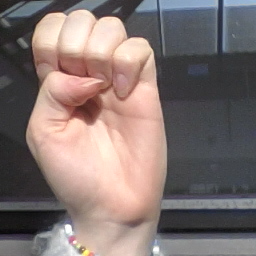E: (24, 8, 176, 212)
